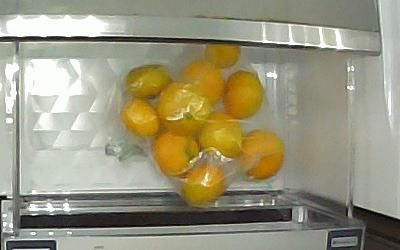tangerine_vinyl: (157, 80, 216, 138), (150, 131, 203, 177), (239, 130, 286, 180), (199, 110, 242, 159), (182, 163, 228, 208), (181, 62, 225, 107), (225, 69, 264, 119), (122, 65, 174, 99), (120, 96, 159, 139), (204, 43, 243, 69)
